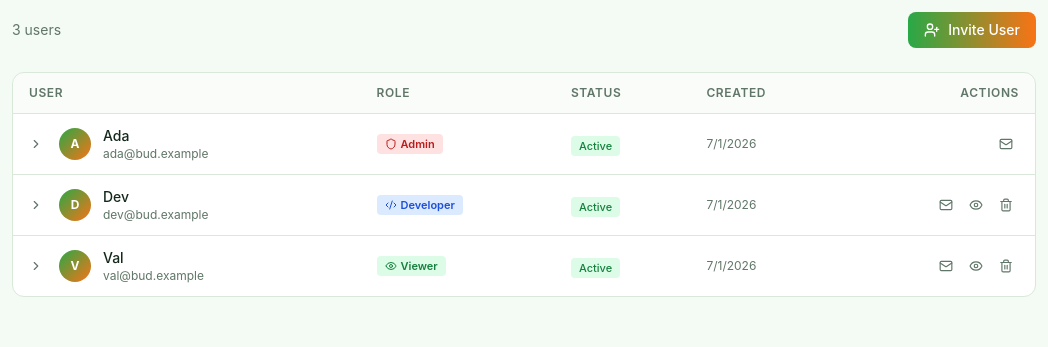
Test: groups under each user › says No groups for a user without groups
Check: the text "Val" is shown, box [103,249,124,266]
Click the button named "Show groups of Val" at (36, 266), box [25,255,47,277]
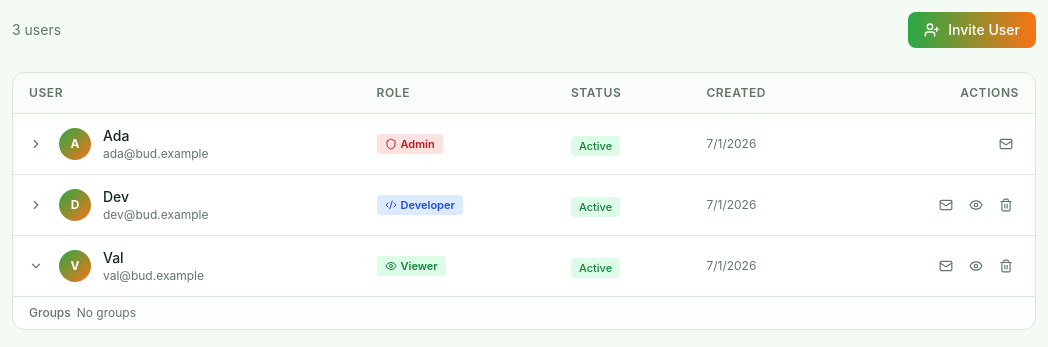
Check: the text "No groups" is shown, box [77,305,136,321]
